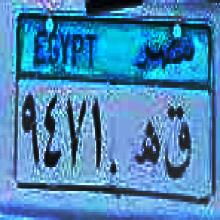1: (92, 100, 104, 171)
4: (42, 93, 63, 172)
7: (66, 96, 86, 174)
9: (21, 91, 40, 169)
haa: (132, 117, 161, 176)
qaaf: (164, 101, 192, 183)
